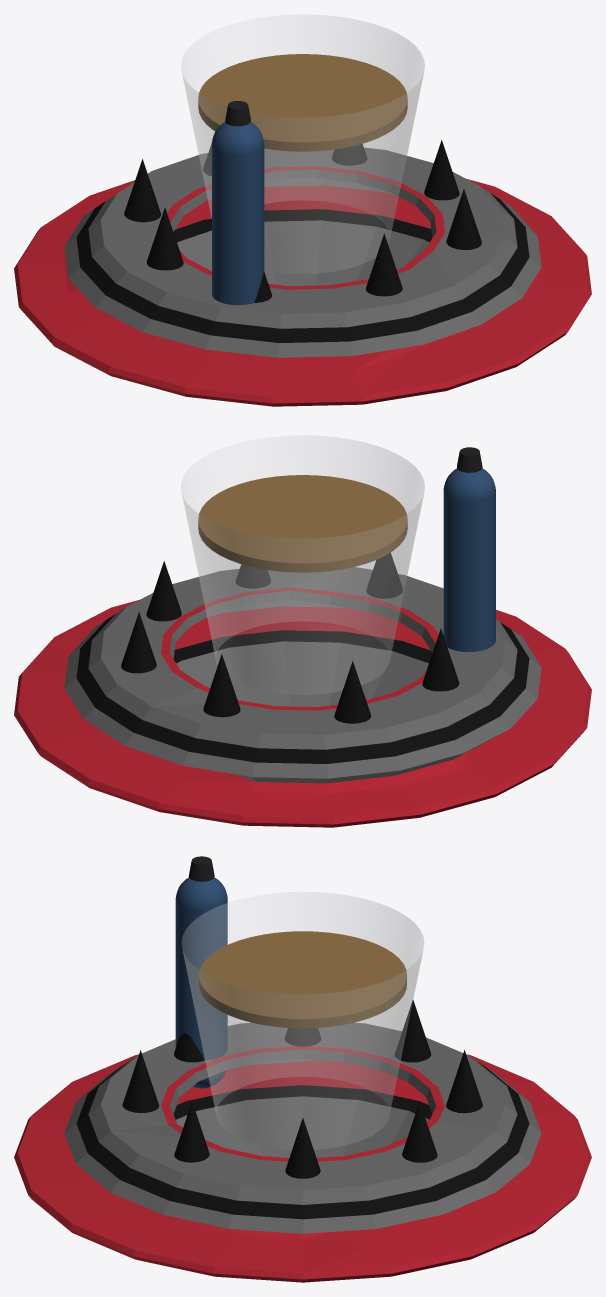
The model's file is glm53_t04.glb.
The picture shows the model from 3 angles, top to bottom: view 1: azimuth 30°, elevation 25°; view 2: azimuth 150°, elevation 25°; view 3: azimuth 270°, elevation 25°; orthographic projection.
Parts seen in each view (by area): view 1: slot_anchor_saucer, cover_cylinder, brown_disc, cyl_body, cyl_neck; view 2: slot_anchor_saucer, cover_cylinder, brown_disc, cyl_body, cyl_neck; view 3: slot_anchor_saucer, cover_cylinder, brown_disc, cyl_body, cyl_neck.
Boxes of the visible parts, x1,y1,x2,y2 form: slot_anchor_saucer: (14, 140, 591, 406); cover_cylinder: (181, 14, 424, 273); brown_disc: (198, 54, 407, 151); cyl_body: (212, 122, 264, 305); cyl_neck: (225, 101, 250, 126); slot_anchor_saucer: (14, 552, 591, 827); cover_cylinder: (181, 435, 424, 694); brown_disc: (198, 475, 407, 572); cyl_body: (443, 468, 495, 652); cyl_neck: (457, 447, 482, 472); slot_anchor_saucer: (14, 1000, 591, 1282); cover_cylinder: (182, 892, 423, 1149); brown_disc: (199, 931, 406, 1028); cyl_body: (175, 877, 227, 1088); cyl_neck: (188, 856, 214, 881).
Size of the model in its own units: 2 by 1.26 by 2.
Materials: 5 (1 with a texture image).
